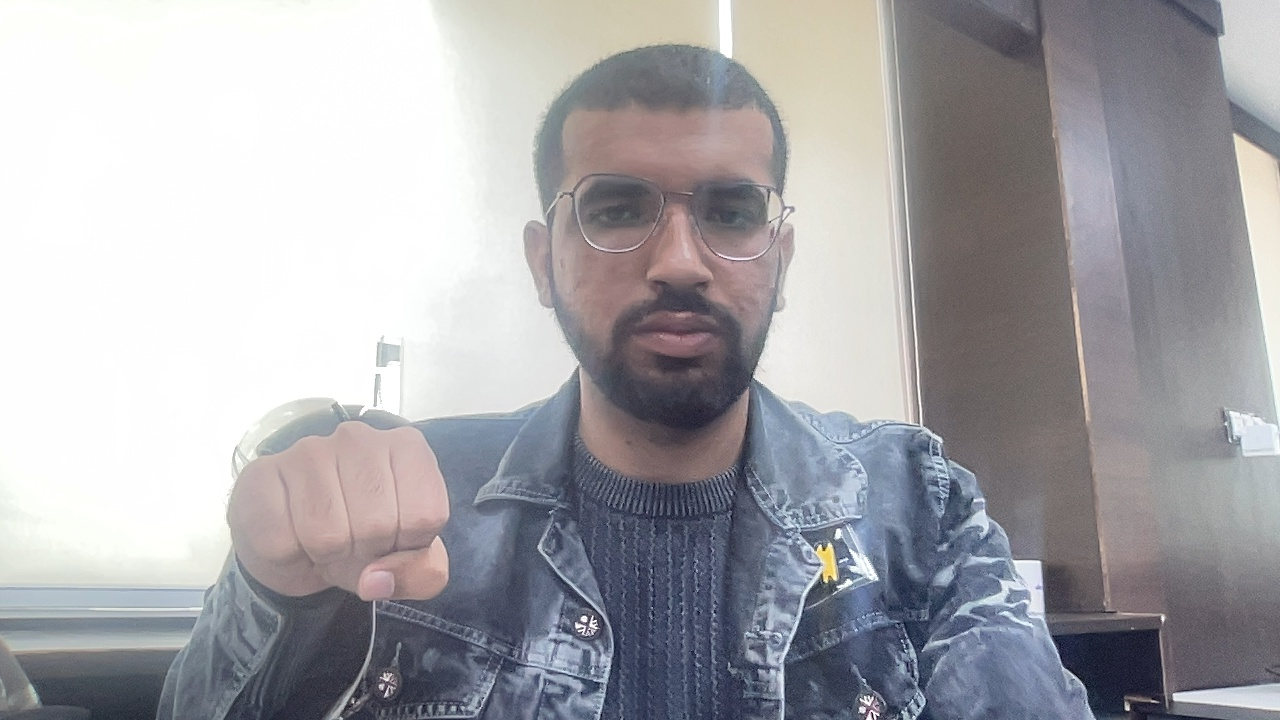Yes: (155, 402, 540, 649)
